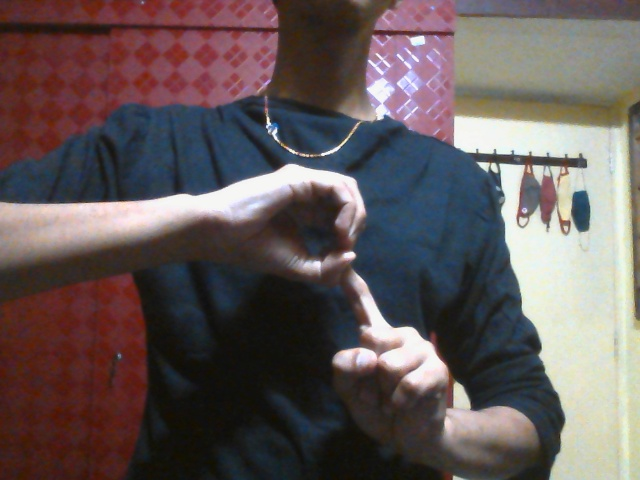Q: (218, 161, 451, 459)
